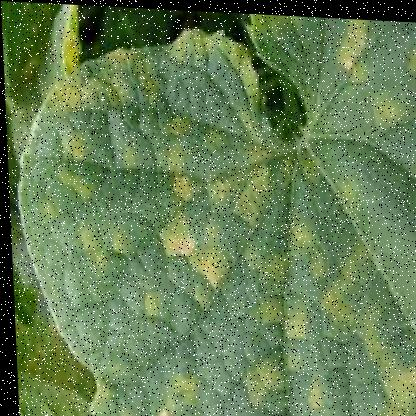DownyMildew: (51, 44, 363, 415)
